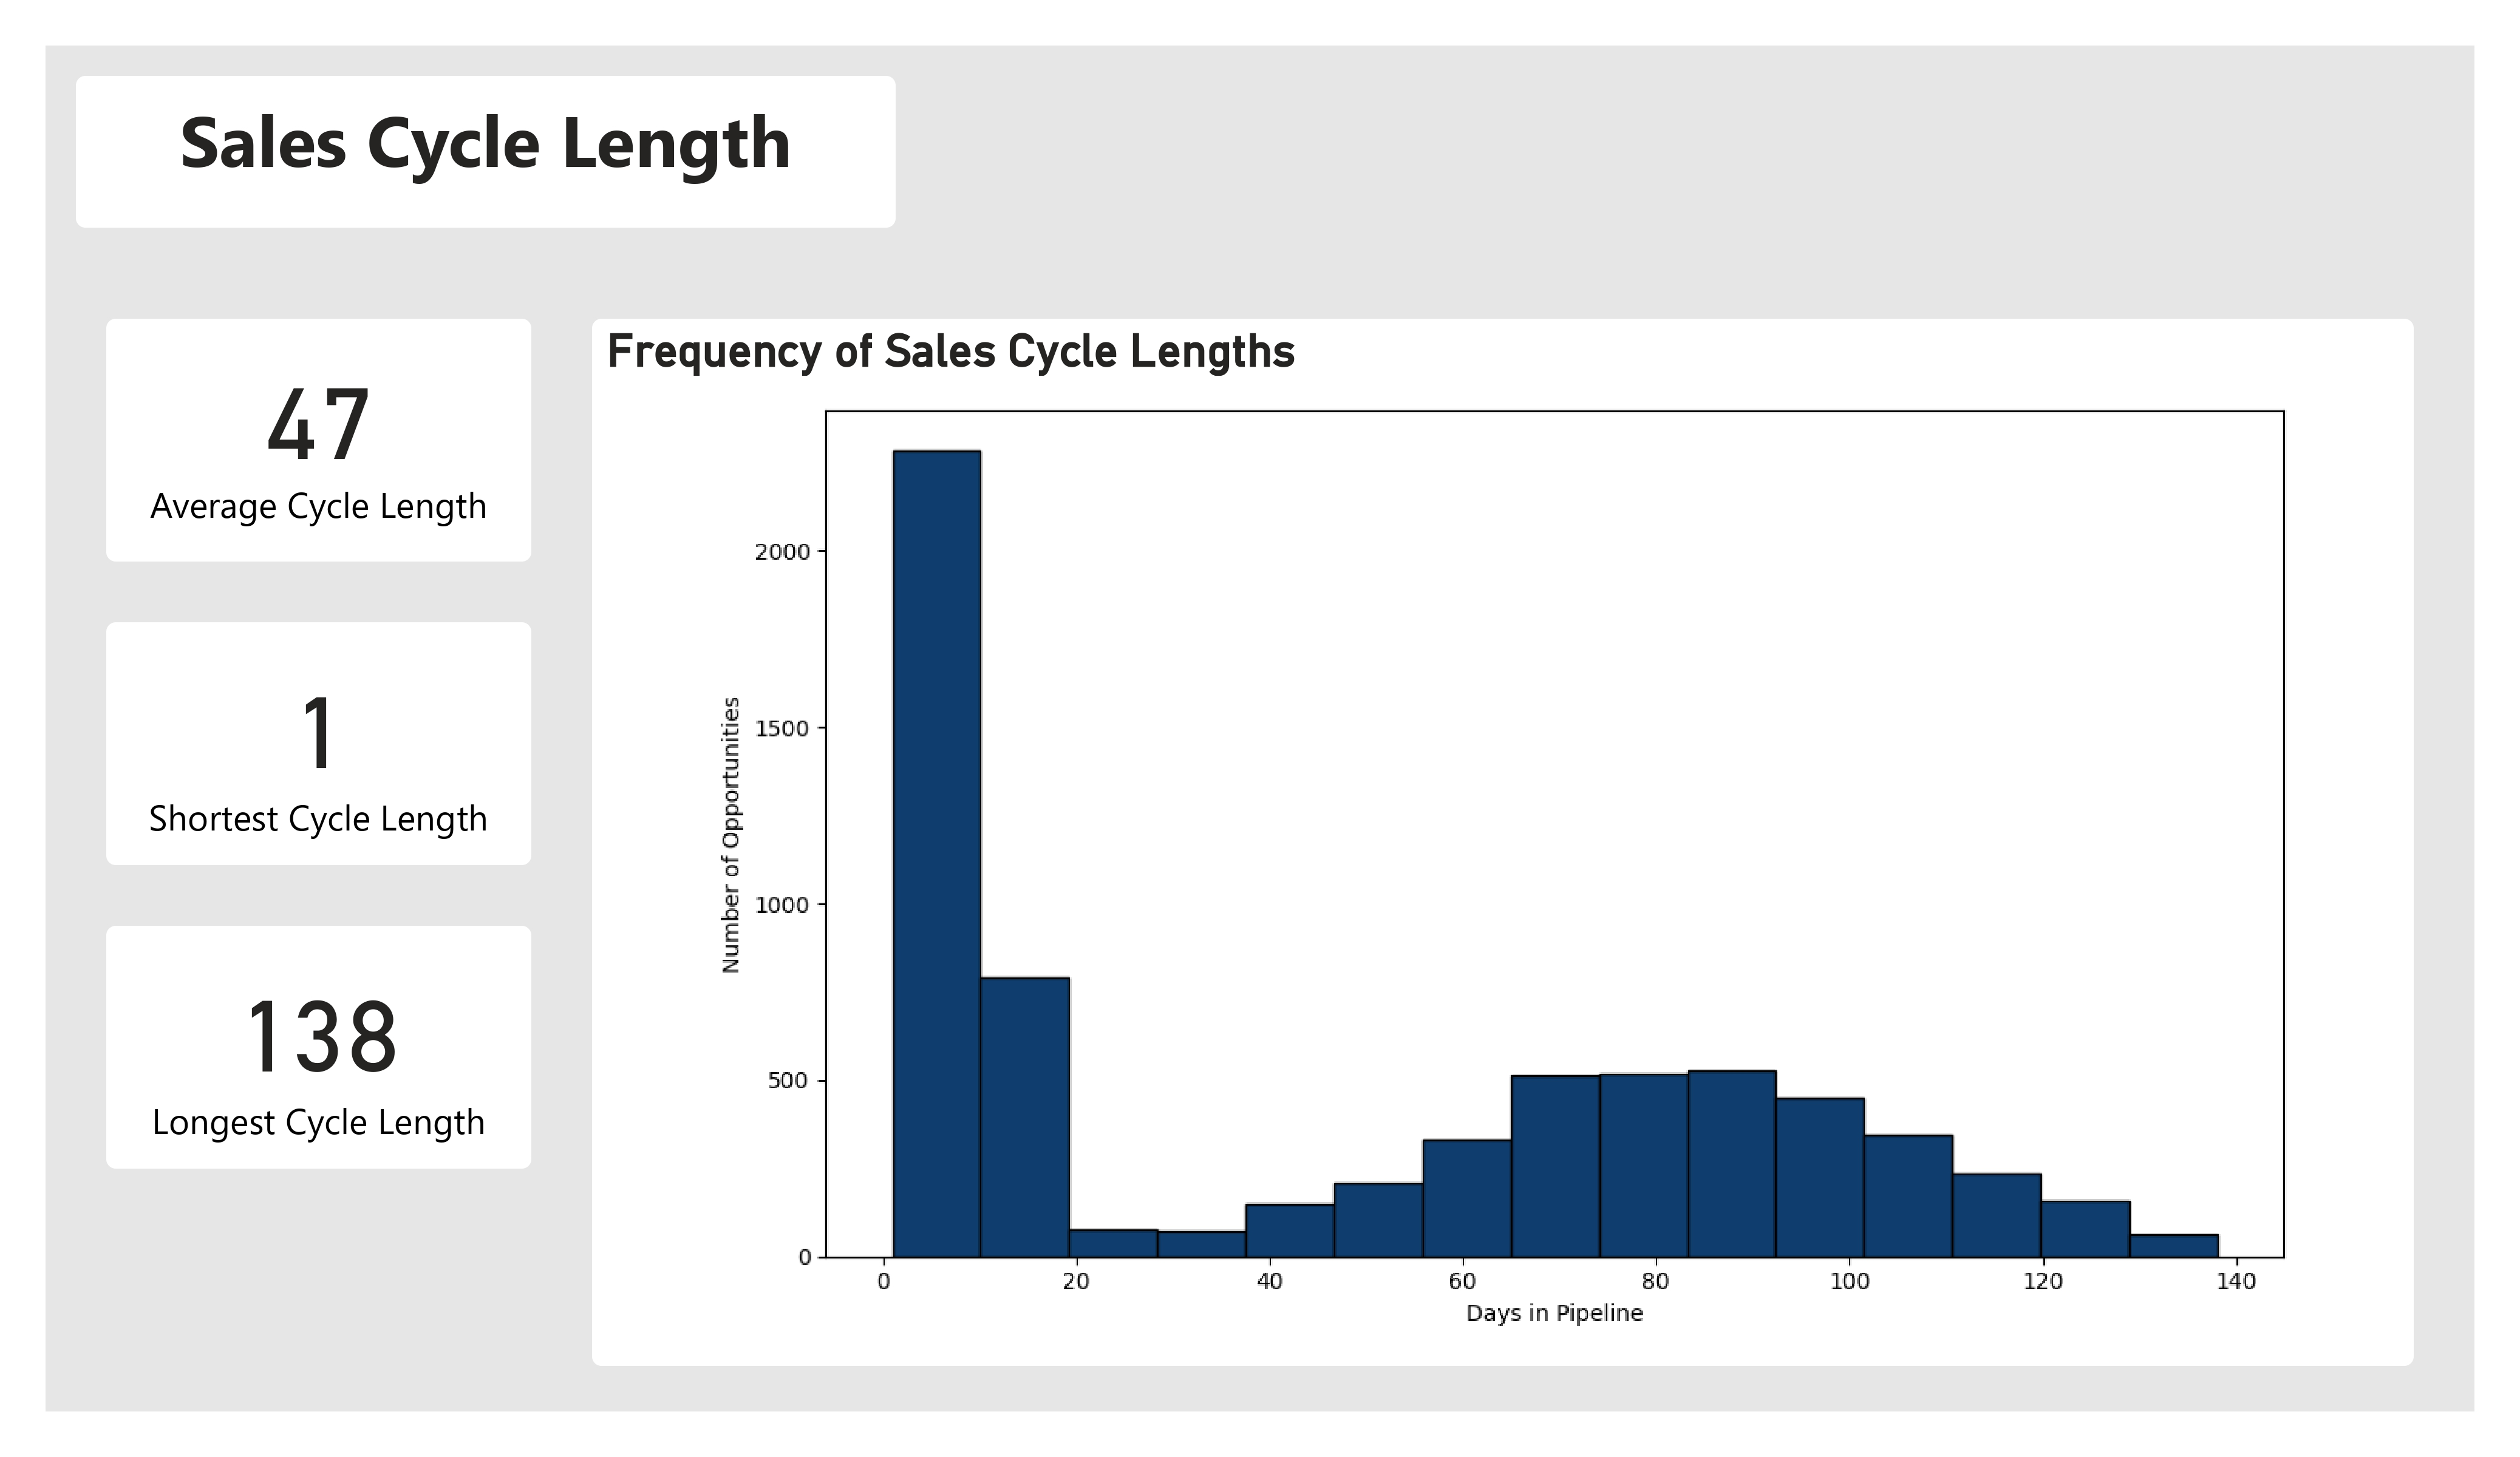

This screenshot's page, from the dashboard's own definition file:
{"tool":"powerbi","page":{"name":"Sales Cycle Length","canvas":[1280,720],"ordinal":5},"visuals":[{"type":"pythonVisual","title":"Frequency of Sales Cycle Lengths","fields":{"Values":["Frequency of Days in Pipeline.Days in Pipeline","Frequency of Days in Pipeline.Opportunity Count"]},"box":[288,144,960,552],"z":0},{"type":"textbox","box":[16,16,432,80],"z":1000},{"type":"textbox","box":[32,144,224,128],"z":2000},{"type":"card","fields":{"Values":["Sum(Frequency of Days in Pipeline.Days in Pipeline)"]},"box":[32,304,224,128],"z":3000},{"type":"card","fields":{"Values":["Sum(Frequency of Days in Pipeline.Days in Pipeline)"]},"box":[32,464,224,128],"z":4000}]}

Visuals, with their boxes on the page's 1280x720 design canvas (x1, y1, x2, y2). These are canvas units, not pixel positions in the 2520x1457 screenshot, which may show the page scaled, cropped or inside an application window:
"Frequency of Sales Cycle Lengths" pythonVisual: (left=288, top=144, right=1248, bottom=696)
textbox: (left=16, top=16, right=448, bottom=96)
textbox: (left=32, top=144, right=256, bottom=272)
card - Sum(Frequency of Days in Pipeline.Days in Pipeline): (left=32, top=304, right=256, bottom=432)
card - Sum(Frequency of Days in Pipeline.Days in Pipeline): (left=32, top=464, right=256, bottom=592)
